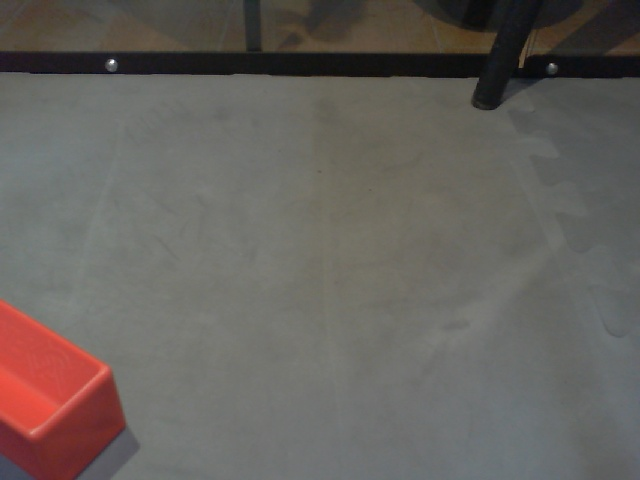RedSample: (1, 291, 128, 480)
